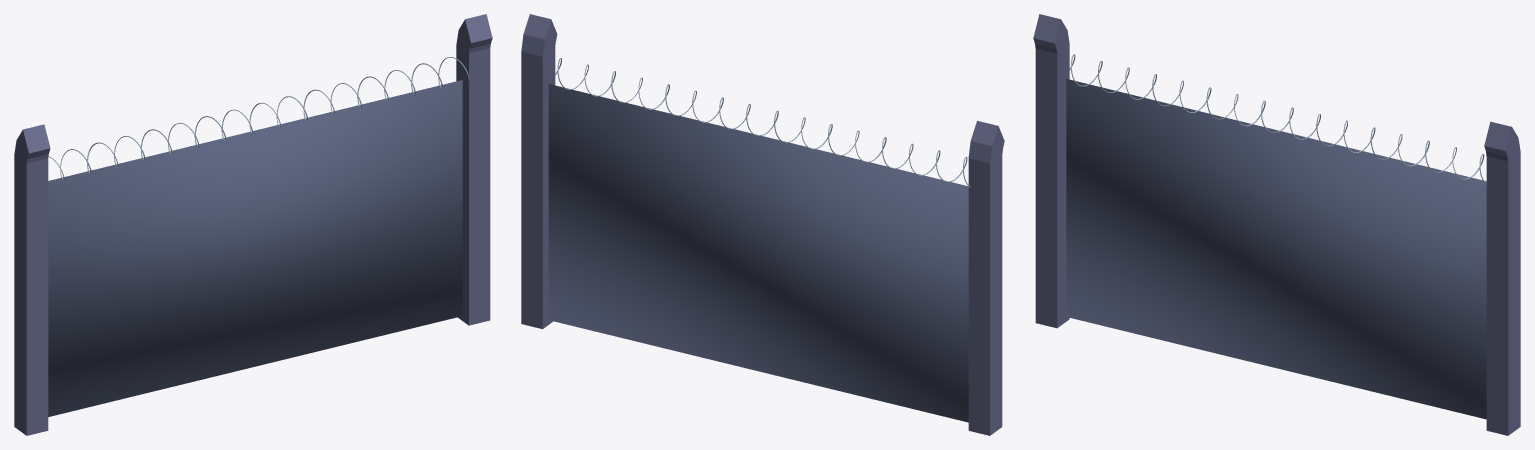
File: fence 1.fbx
3 views of the same model, side by side, from view 1: azimuth 30°, elevation 25°; view 2: azimuth 150°, elevation 25°; view 3: azimuth 330°, elevation 25° (orthographic).
Parts seen in each view (by area): view 1: Plane.001, Spiral; view 2: Plane.001, Spiral; view 3: Plane.001, Spiral.
Part boxes in pixels (x1,y1,x2,y2): Plane.001: (14,14,492,435); Spiral: (48,57,469,181); Plane.001: (521,14,1004,435); Spiral: (555,58,970,187); Plane.001: (1033,14,1520,435); Spiral: (1069,54,1487,184).
Size of the model in its own units: 413 by 257 by 26.54.
